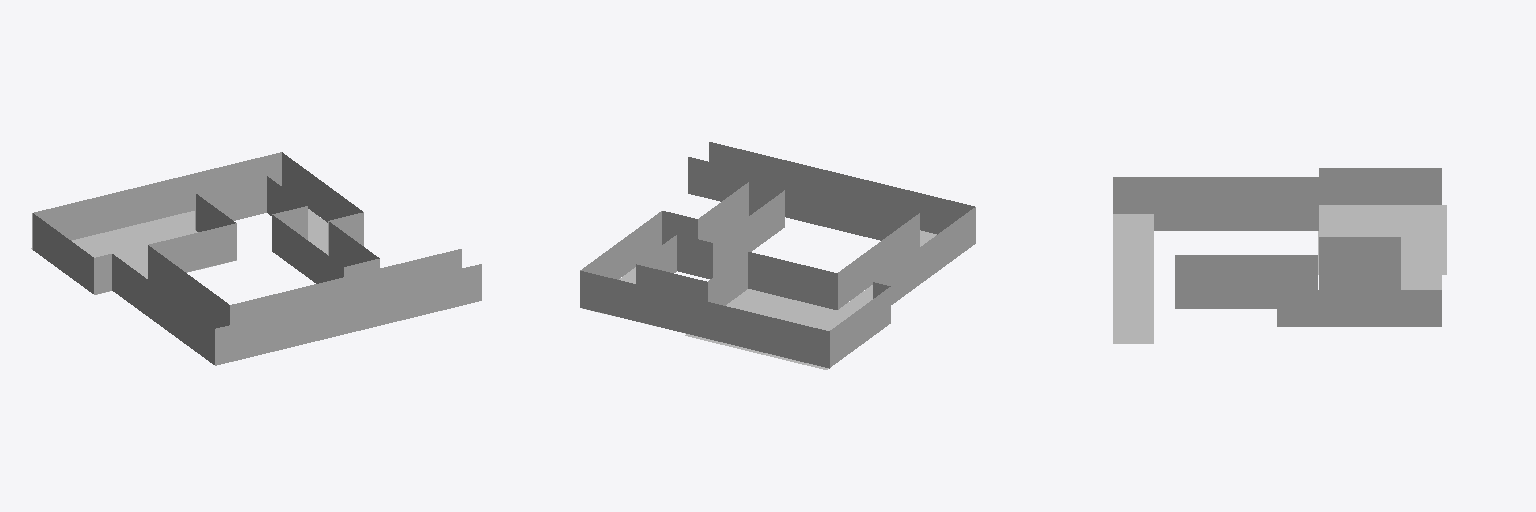
The model's file is Floor1.obj.
3 views of the same model, side by side, from view 1: azimuth 30°, elevation 25°; view 2: azimuth 150°, elevation 25°; view 3: azimuth 270°, elevation 25° (orthographic).
Parts seen in each view (by area): view 1: plane.006_plane.007, plane.014_plane.015, plane.008_plane.009, plane.007_plane.008, plane.003, plane.009_plane.010, plane.018_plane.019, plane.010_plane.011, plane.012_plane.013, plane.015_plane.016, plane.017_plane.018, plane.011_plane.012 (+6 smaller); view 2: plane.014_plane.015, plane.008_plane.009, plane.006_plane.007, plane.018_plane.019, plane.007_plane.008, plane.009_plane.010, plane.003, plane.010_plane.011, plane.012_plane.013, plane.015_plane.016, plane.011_plane.012, plane.017_plane.018 (+5 smaller); view 3: plane.012_plane.013, plane.009_plane.010, plane.003, plane, plane.015_plane.016, plane.007_plane.008, plane.011_plane.012, plane.010_plane.011, plane.016_plane.017, plane.013_plane.014, plane.002_plane.004.
Boxes of the visible parts, x1=… form: plane.006_plane.007: x1=215, y1=264, x2=481, y2=365; plane.014_plane.015: x1=32, y1=152, x2=281, y2=249; plane.008_plane.009: x1=230, y1=249, x2=461, y2=324; plane.007_plane.008: x1=112, y1=254, x2=214, y2=364; plane.003: x1=31, y1=215, x2=236, y2=294; plane.009_plane.010: x1=148, y1=245, x2=229, y2=328; plane.018_plane.019: x1=149, y1=223, x2=236, y2=272; plane.010_plane.011: x1=272, y1=215, x2=343, y2=283; plane.012_plane.013: x1=282, y1=152, x2=362, y2=222; plane.015_plane.016: x1=33, y1=213, x2=93, y2=293; plane.017_plane.018: x1=195, y1=176, x2=266, y2=229; plane.011_plane.012: x1=329, y1=222, x2=379, y2=266; plane.014_plane.015: x1=580, y1=271, x2=829, y2=368; plane.008_plane.009: x1=688, y1=157, x2=918, y2=240; plane.006_plane.007: x1=709, y1=142, x2=974, y2=234; plane.018_plane.019: x1=748, y1=252, x2=837, y2=309; plane.007_plane.008: x1=873, y1=207, x2=975, y2=304; plane.009_plane.010: x1=838, y1=213, x2=919, y2=309; plane.003: x1=685, y1=289, x2=851, y2=369; plane.010_plane.011: x1=713, y1=190, x2=784, y2=276; plane.012_plane.013: x1=580, y1=211, x2=661, y2=279; plane.015_plane.016: x1=830, y1=287, x2=890, y2=367; plane.011_plane.012: x1=698, y1=182, x2=748, y2=242; plane.017_plane.018: x1=636, y1=264, x2=707, y2=301; plane.012_plane.013: x1=1277, y1=290, x2=1441, y2=326; plane.009_plane.010: x1=1154, y1=194, x2=1318, y2=230; plane.003: x1=1318, y1=205, x2=1446, y2=274; plane: x1=1113, y1=214, x2=1153, y2=343; plane.015_plane.016: x1=1319, y1=168, x2=1441, y2=204; plane.007_plane.008: x1=1113, y1=177, x2=1318, y2=213; plane.011_plane.012: x1=1175, y1=272, x2=1276, y2=308; plane.010_plane.011: x1=1175, y1=255, x2=1317, y2=289; plane.016_plane.017: x1=1319, y1=237, x2=1400, y2=271; plane.013_plane.014: x1=1319, y1=272, x2=1400, y2=289; plane.002_plane.004: x1=1401, y1=275, x2=1441, y2=289.
Size of the model in its own units: 16.05 by 2 by 16.25.